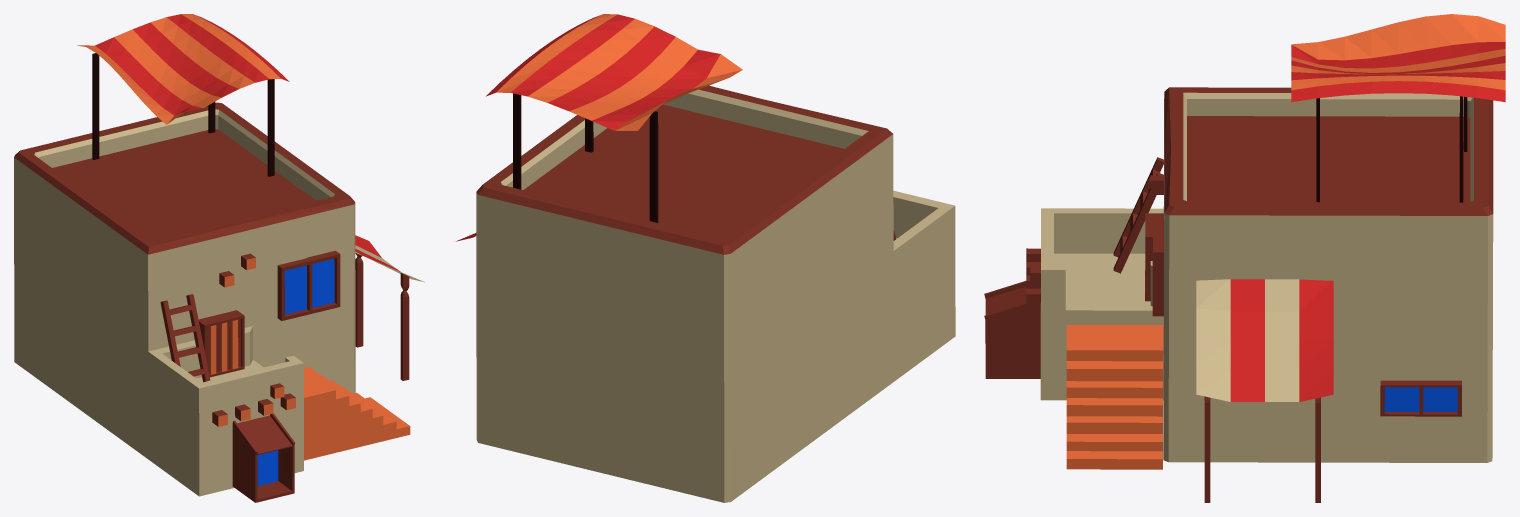
File: Building_DesertHouse_1.FBX
3 renders of one model, left to right at view 1: azimuth 30°, elevation 25°; view 2: azimuth 150°, elevation 25°; view 3: azimuth 270°, elevation 25°, orthographic. The views are drawn at different scales.
Parts seen in each view (by area): view 1: sand_House; view 2: sand_House; view 3: sand_House.
Part boxes in pixels (x1,y1,x2,y2): sand_House: [14, 14, 424, 502]; sand_House: [456, 14, 955, 502]; sand_House: [984, 14, 1505, 502].
Bounding box in the file's own units: 1325 × 1700 × 1323.
